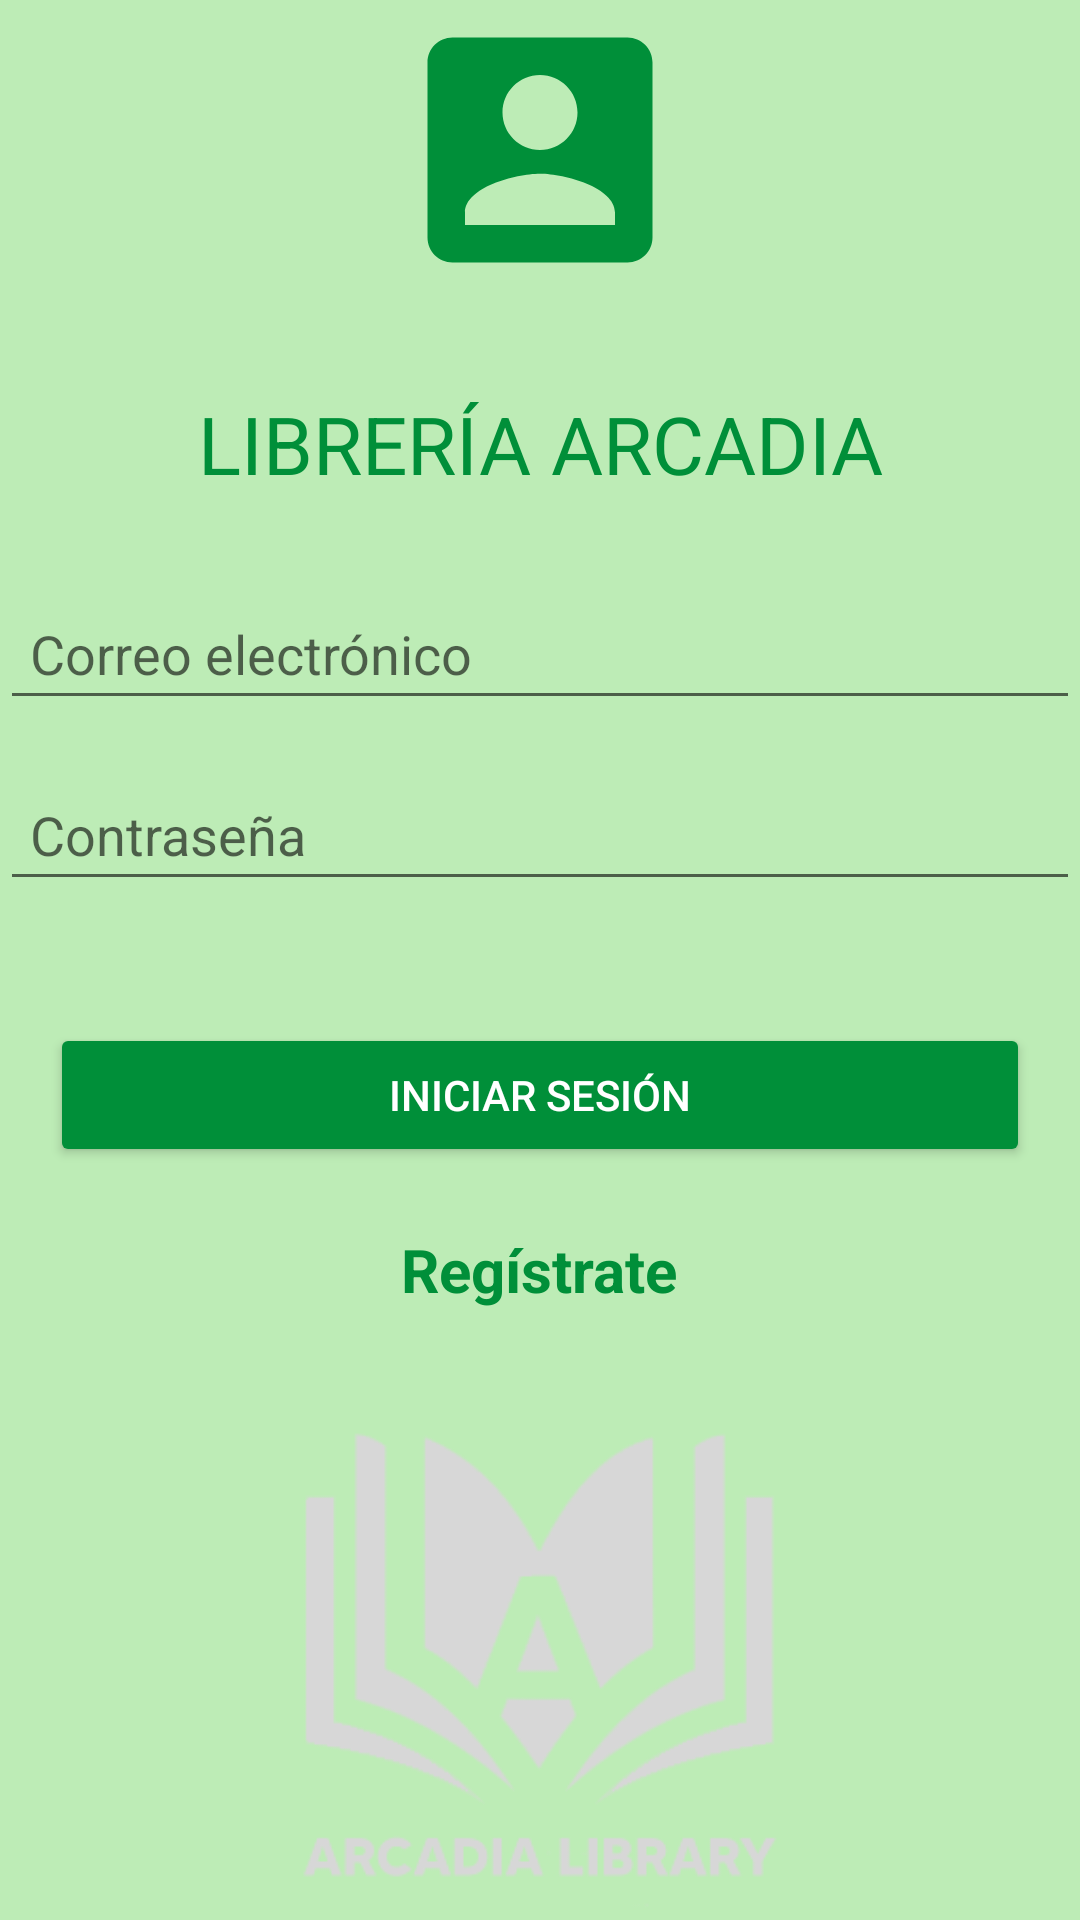

Where icons sit on this 1080 × 1920 app screen, as (x1, y1, x2, y2):
account box: (427, 37, 653, 263)
